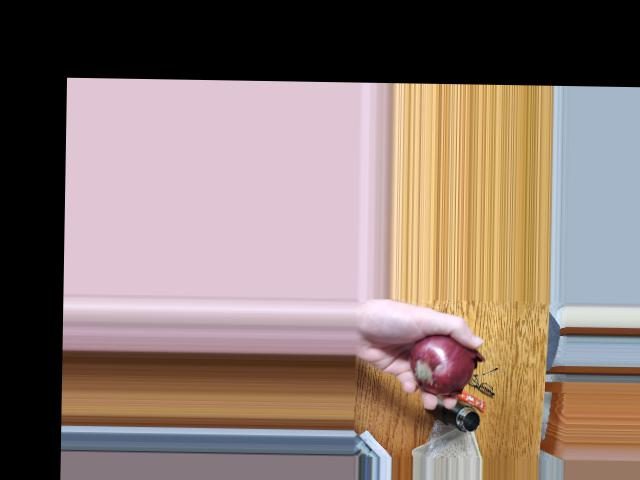onion: (412, 335, 472, 393)
